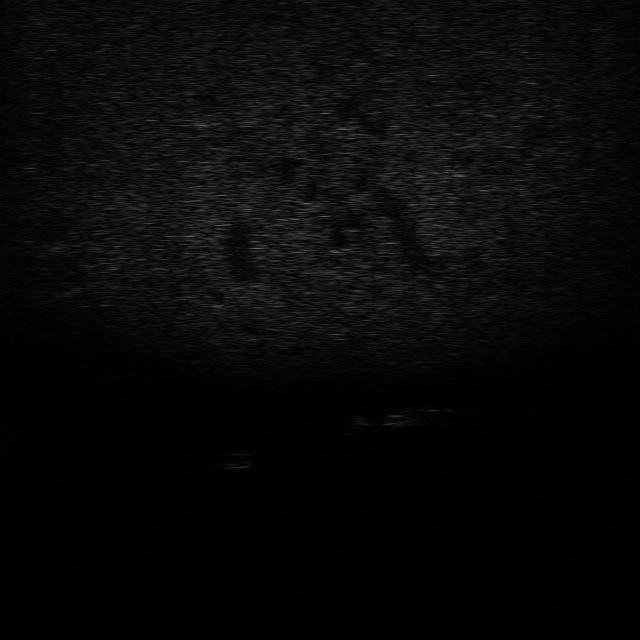ball: (210, 448, 258, 474)
human body: (346, 401, 446, 437)
